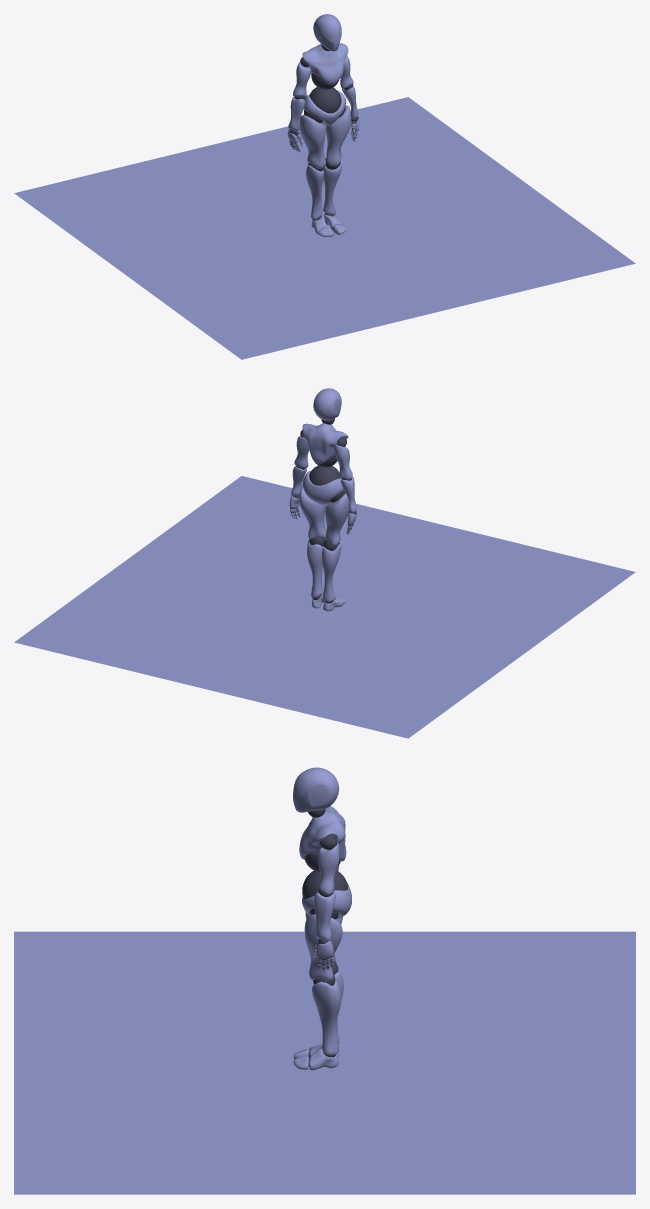
3 renders of one model, top to bottom at view 1: azimuth 30°, elevation 25°; view 2: azimuth 150°, elevation 25°; view 3: azimuth 270°, elevation 25°, orthographic. The views are drawn at different scales.
Visible parts, largest first — view 1: Beta_Joints.001; view 2: Beta_Joints.001; view 3: Beta_Joints.001.
Boxes of the visible parts, x1,y1,x2,y2 form: Beta_Joints.001: [14, 14, 635, 359]; Beta_Joints.001: [14, 388, 635, 738]; Beta_Joints.001: [14, 767, 635, 1194].
Bounding box in the file's own units: 3.41 × 1.78 × 3.41.
